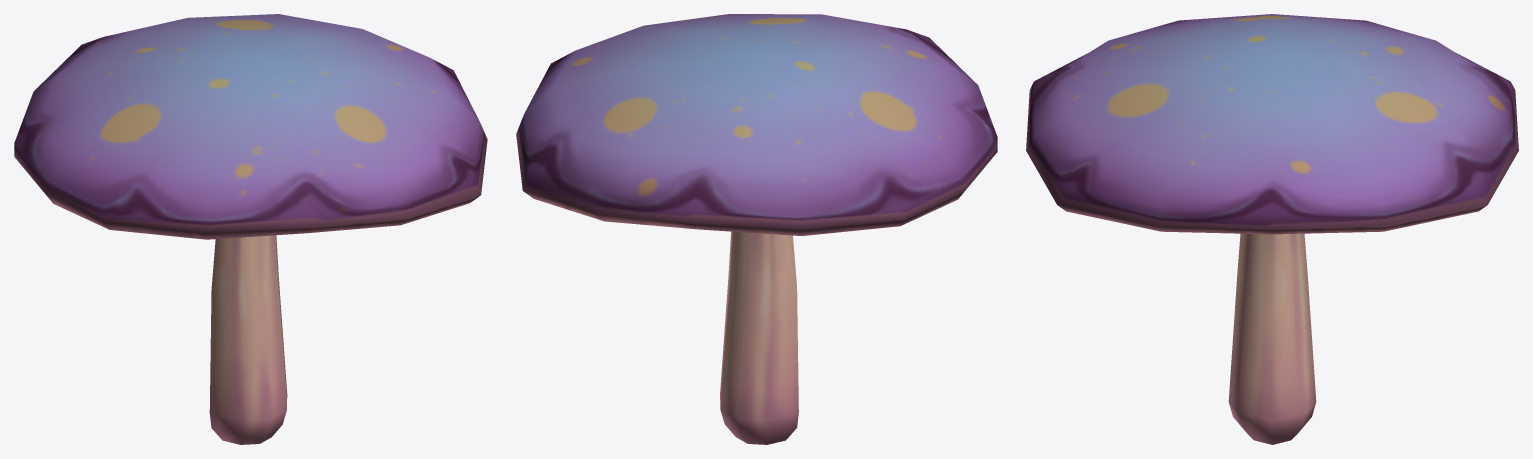
The model's file is MD_mushroom_Nomal_L.fbx.
3 renders of one model, left to right at view 1: azimuth 30°, elevation 25°; view 2: azimuth 150°, elevation 25°; view 3: azimuth 270°, elevation 25°, orthographic. The views are drawn at different scales.
Parts seen in each view (by area): view 1: mushroom_Nomal_L1; view 2: mushroom_Nomal_L1; view 3: mushroom_Nomal_L1.
Boxes of the visible parts, left/top/right/bottom form: mushroom_Nomal_L1: left=14, top=14, right=487, bottom=444; mushroom_Nomal_L1: left=516, top=14, right=997, bottom=444; mushroom_Nomal_L1: left=1026, top=14, right=1518, bottom=444.
Bounding box in the file's own units: 2749 × 2369 × 2764.
Materials: 1 (1 with a texture image).
